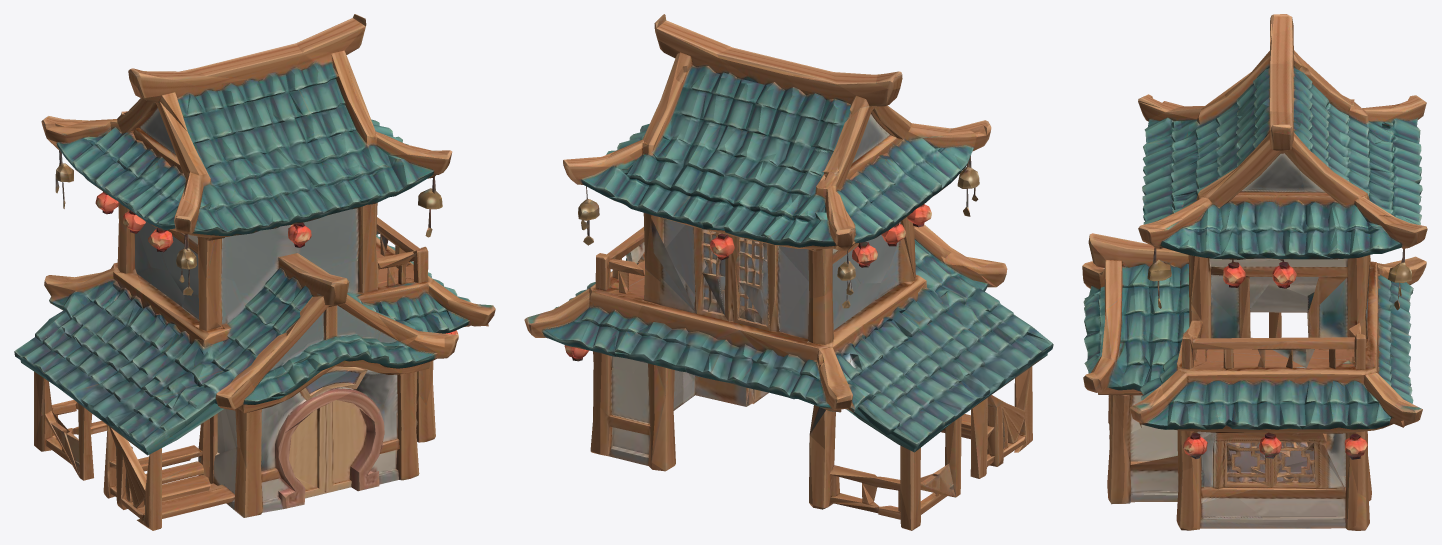
Rendered from teahouse.fbx.
The picture shows the model from 3 angles, left to right: view 1: azimuth 30°, elevation 25°; view 2: azimuth 150°, elevation 25°; view 3: azimuth 270°, elevation 25°; orthographic projection. The views are drawn at different scales.
Visible parts, largest first — view 1: teahouse; view 2: teahouse; view 3: teahouse.
Part boxes in pixels (box(x1,y1,x2,y2)): teahouse: box(14, 14, 495, 530); teahouse: box(524, 14, 1053, 530); teahouse: box(1082, 14, 1427, 530).
Bounding box in the file's own units: 8.65 × 9 × 7.14.
